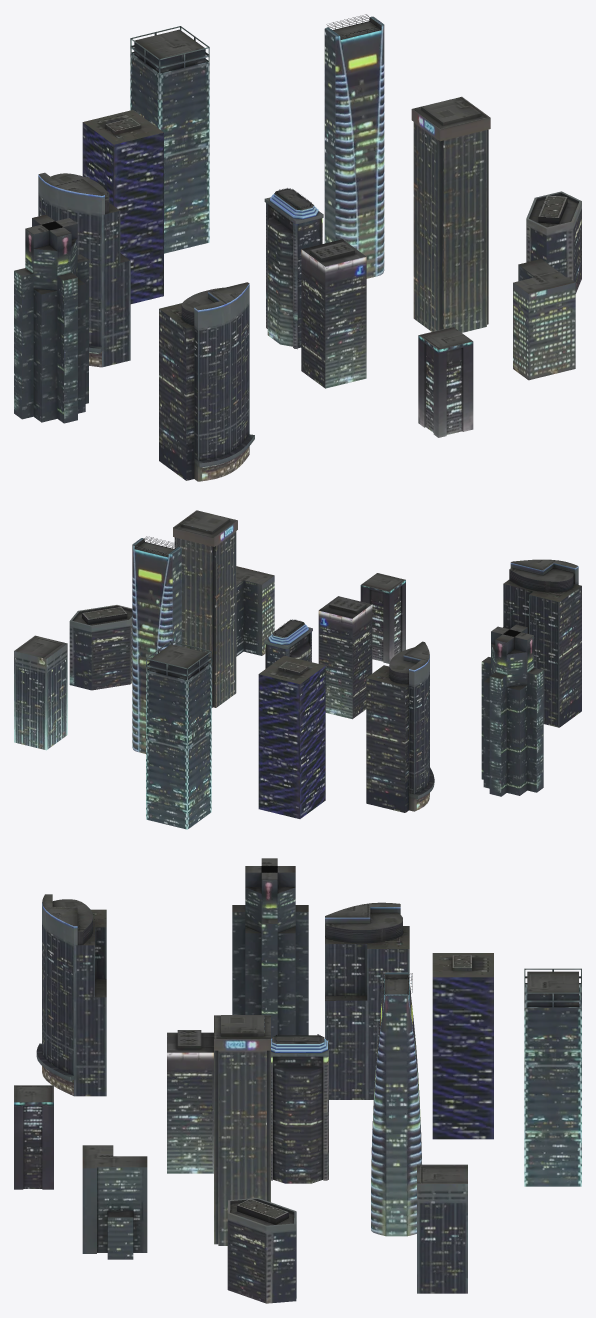
The model's file is low_poly_night_city_building_skyline.glb.
3 renders of one model, top to bottom at view 1: azimuth 30°, elevation 25°; view 2: azimuth 150°, elevation 25°; view 3: azimuth 270°, elevation 25°, orthographic. The views are drawn at different scales.
Parts seen in each view (by area): view 1: Cube.001_Background_Night_Buildings_0; view 2: Cube.001_Background_Night_Buildings_0; view 3: Cube.001_Background_Night_Buildings_0.
Part boxes in pixels (x1=…): Cube.001_Background_Night_Buildings_0: x1=14, y1=14, x2=581, y2=481; Cube.001_Background_Night_Buildings_0: x1=14, y1=510, x2=581, y2=829; Cube.001_Background_Night_Buildings_0: x1=14, y1=858, x2=581, y2=1303.
Bounding box in the file's own units: 196 × 81.99 × 173.
1 material, 1 textured.
